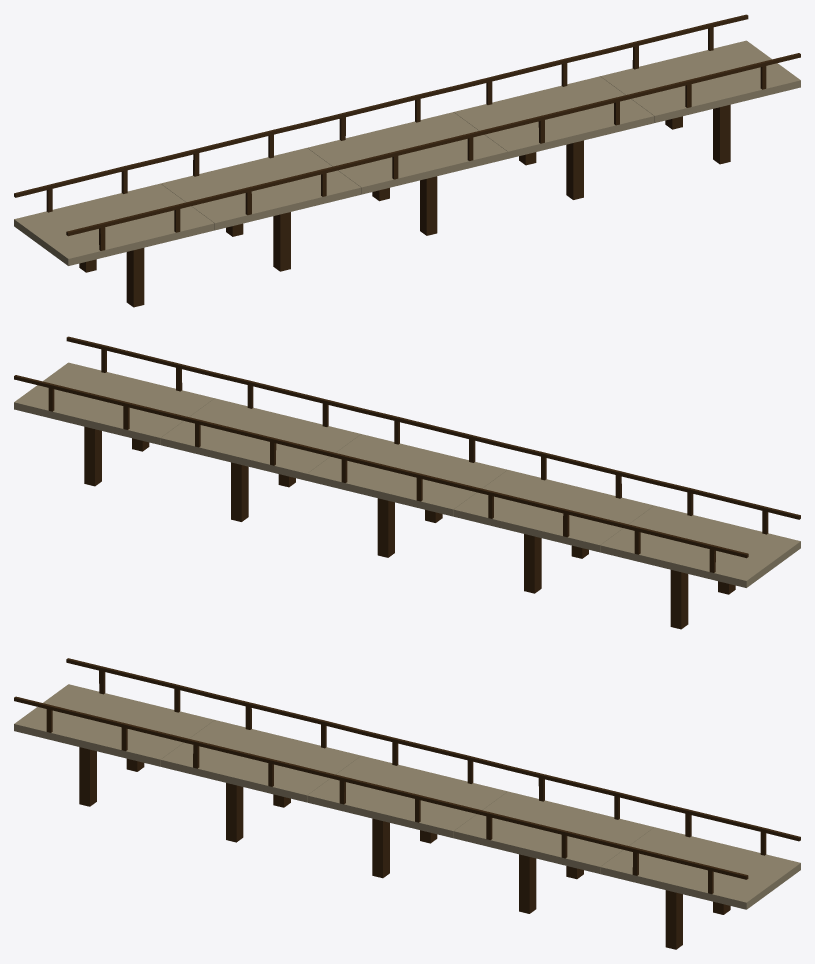
File: bridge.gltf
3 renders of one model, top to bottom at view 1: azimuth 30°, elevation 25°; view 2: azimuth 150°, elevation 25°; view 3: azimuth 330°, elevation 25°, orthographic.
Parts seen in each view (by area): view 1: Cube; view 2: Cube; view 3: Cube.
Boxes of the visible parts, x1,y1,x2,y2 form: Cube: (14,14,800,307); Cube: (14,336,800,629); Cube: (14,658,800,949).
Bounding box in the file's own units: 16.96 × 2 × 2.18.
